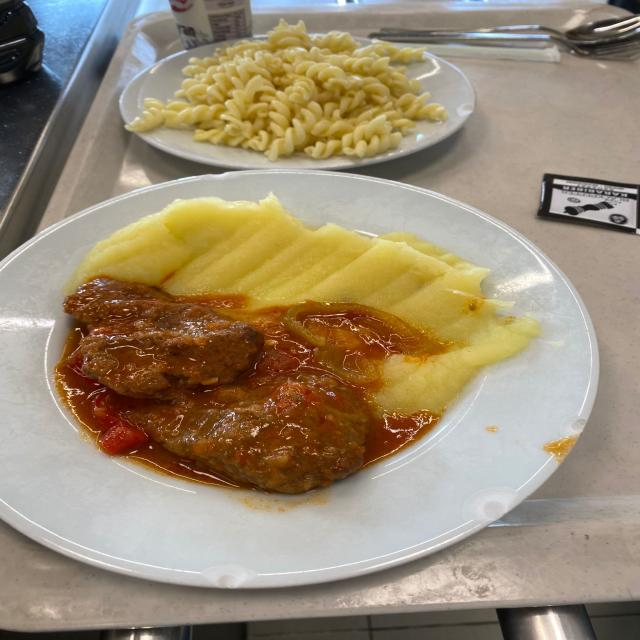ana_yemek: (51, 191, 542, 496)
